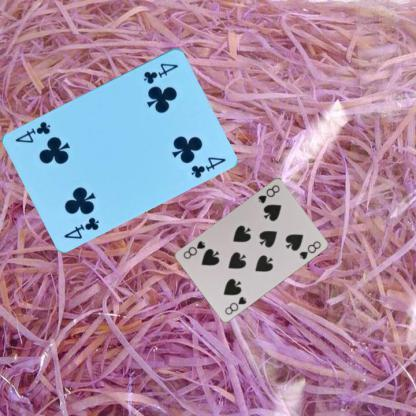4c: (61, 214, 101, 240), (140, 60, 180, 85)
8s: (256, 182, 282, 205), (222, 294, 248, 316)
